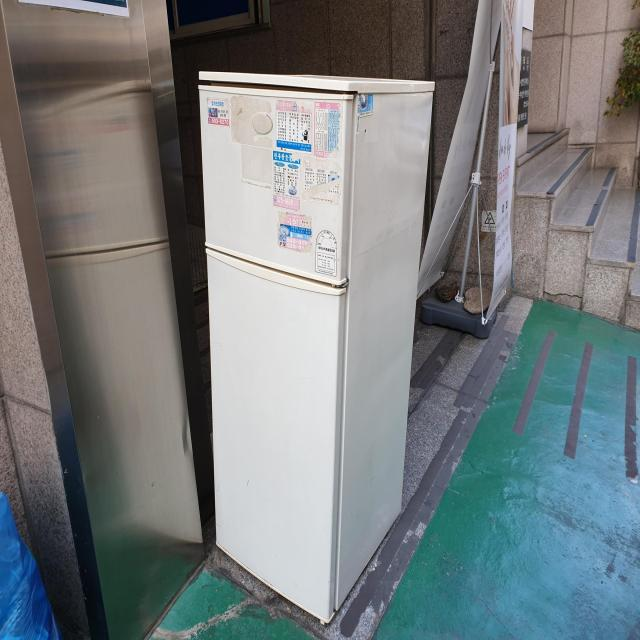refrigerator: (195, 65, 438, 629)
